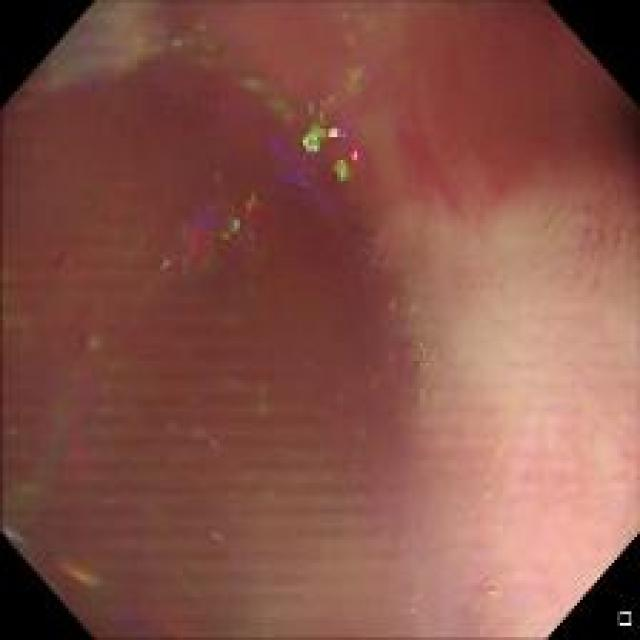bubbles: (408, 338, 429, 371), (480, 579, 500, 601)
color misalignment: (189, 20, 339, 224), (52, 314, 128, 488), (285, 60, 379, 192), (155, 185, 281, 270), (328, 386, 385, 474), (45, 546, 106, 595), (139, 602, 200, 635), (2, 514, 34, 552), (418, 356, 436, 399)
